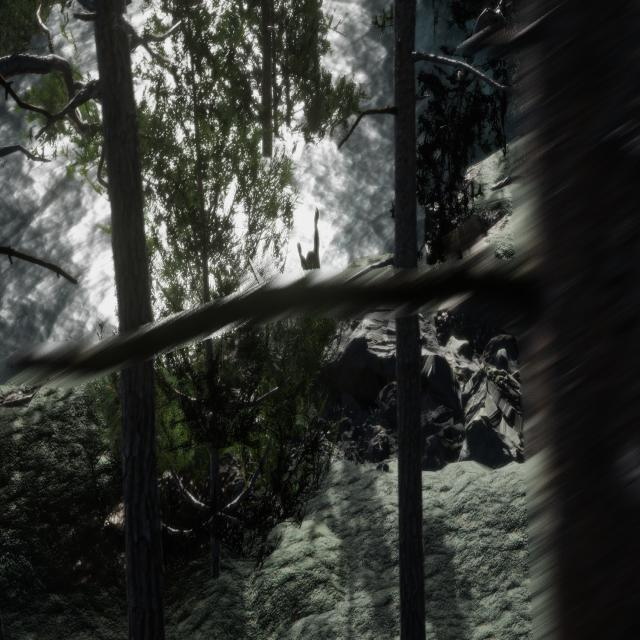Human: (290, 210, 332, 273)
